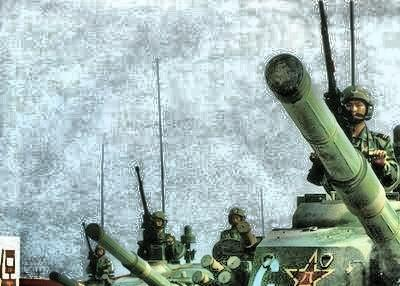tanks: (189, 56, 400, 286), (87, 224, 200, 286), (139, 264, 169, 286)
